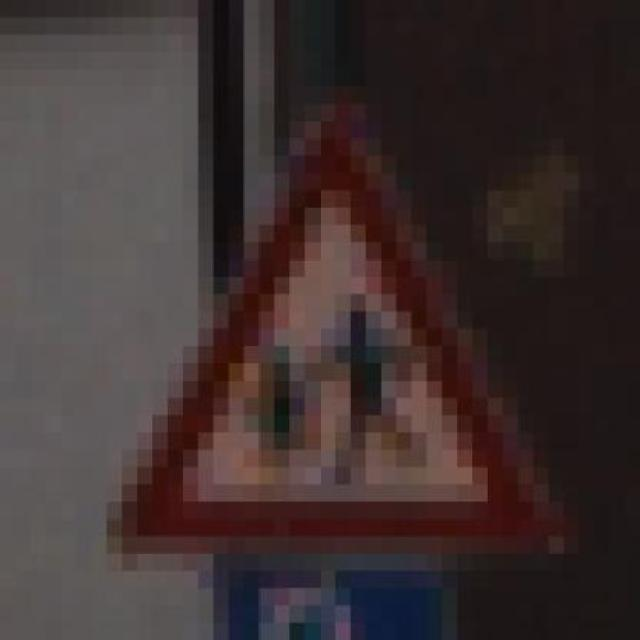Beware of children: (76, 69, 579, 571)
